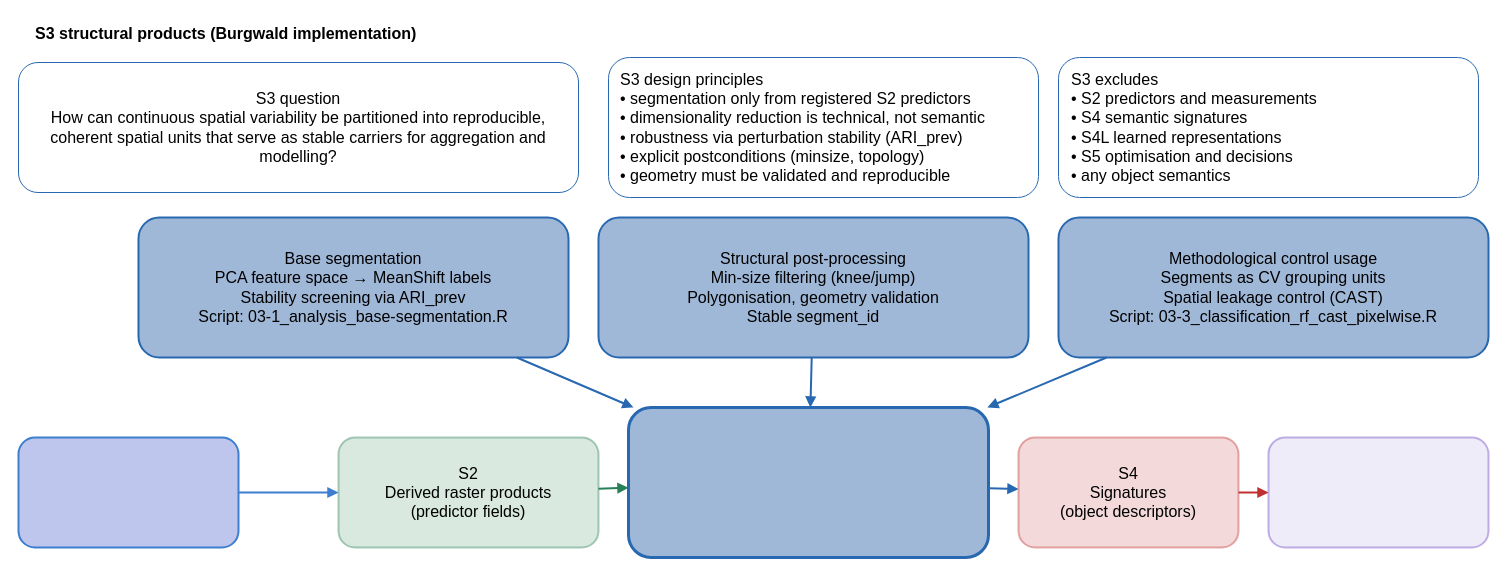
This 1506x576 diagram has some shape labels left out. The shapes that lost their labels are listed below. From the top down, each one's box as (x1, y1, x2, y2) in pixels, then its label:
(17, 436, 239, 548): S1 Observations (measurements)
(626, 406, 990, 558): S3 Segmentation & Structural Units (explicit spatial partition)
(1267, 436, 1489, 548): S5 Decision logic (ranking/selection)
